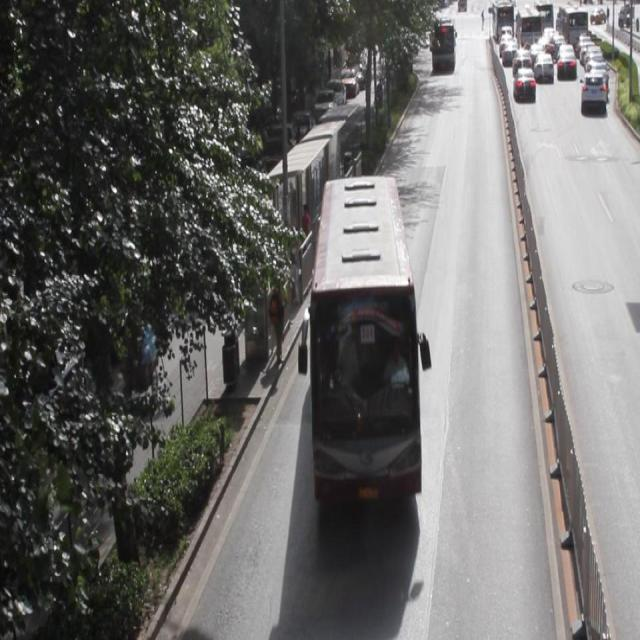van: (310, 177, 420, 499)
